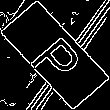P_NE: (23, 25, 87, 85)
